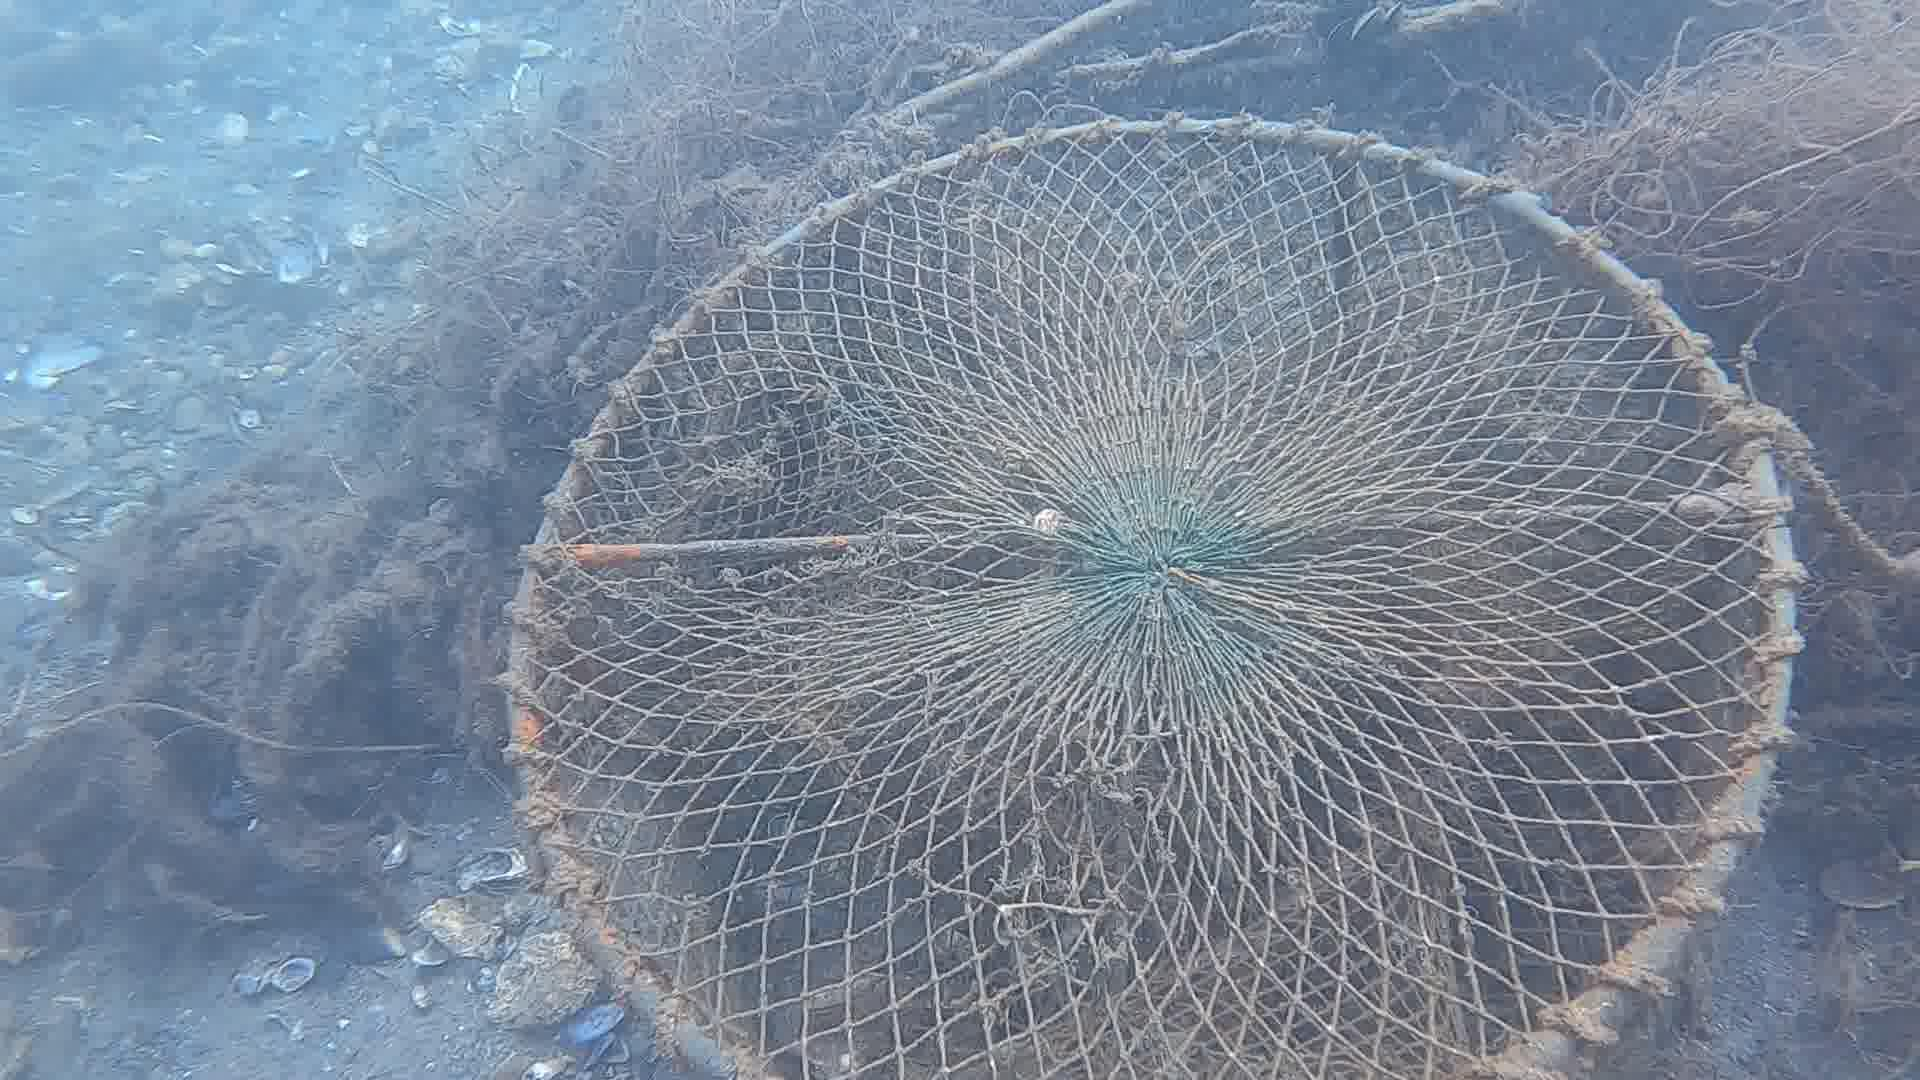circular fish trap: (496, 108, 1803, 1080)
